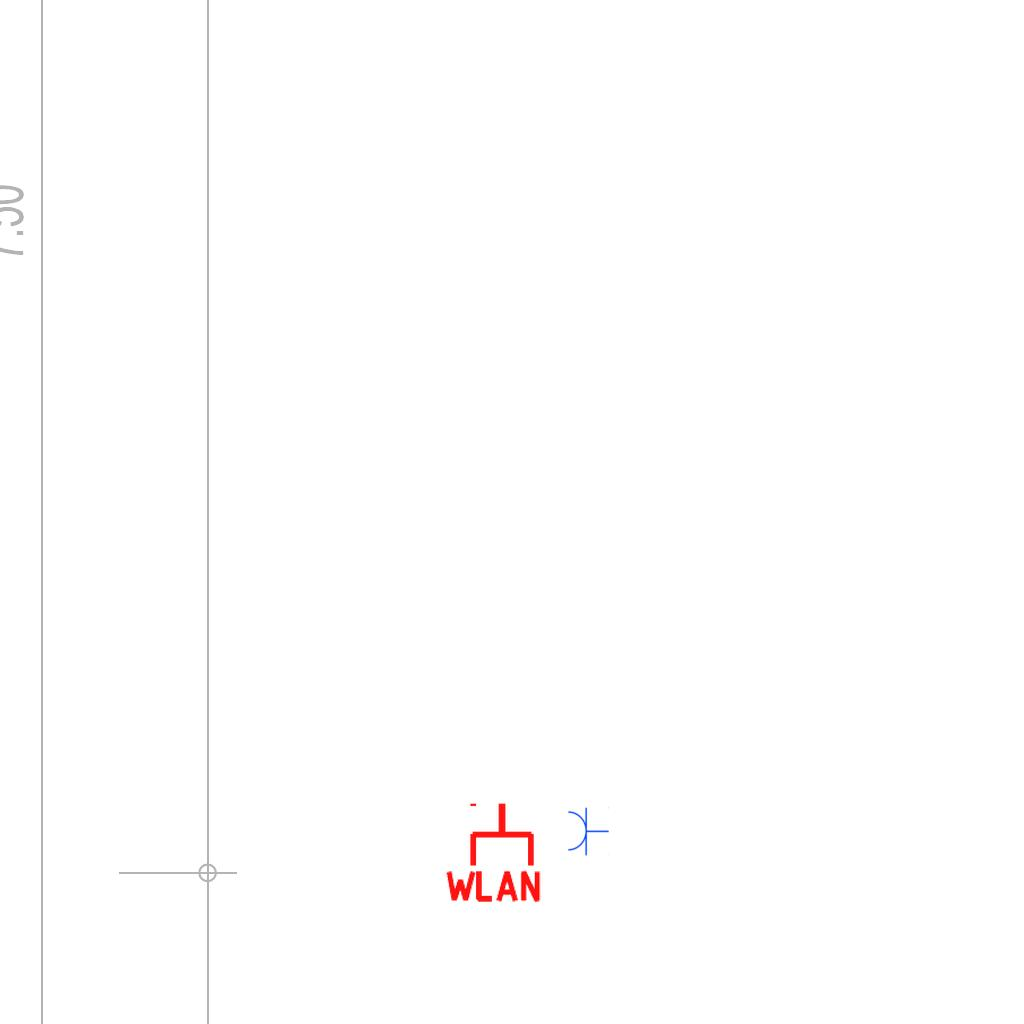Schukosteckdose_einfach: (566, 806, 609, 856)
WLAN: (441, 799, 545, 904)
